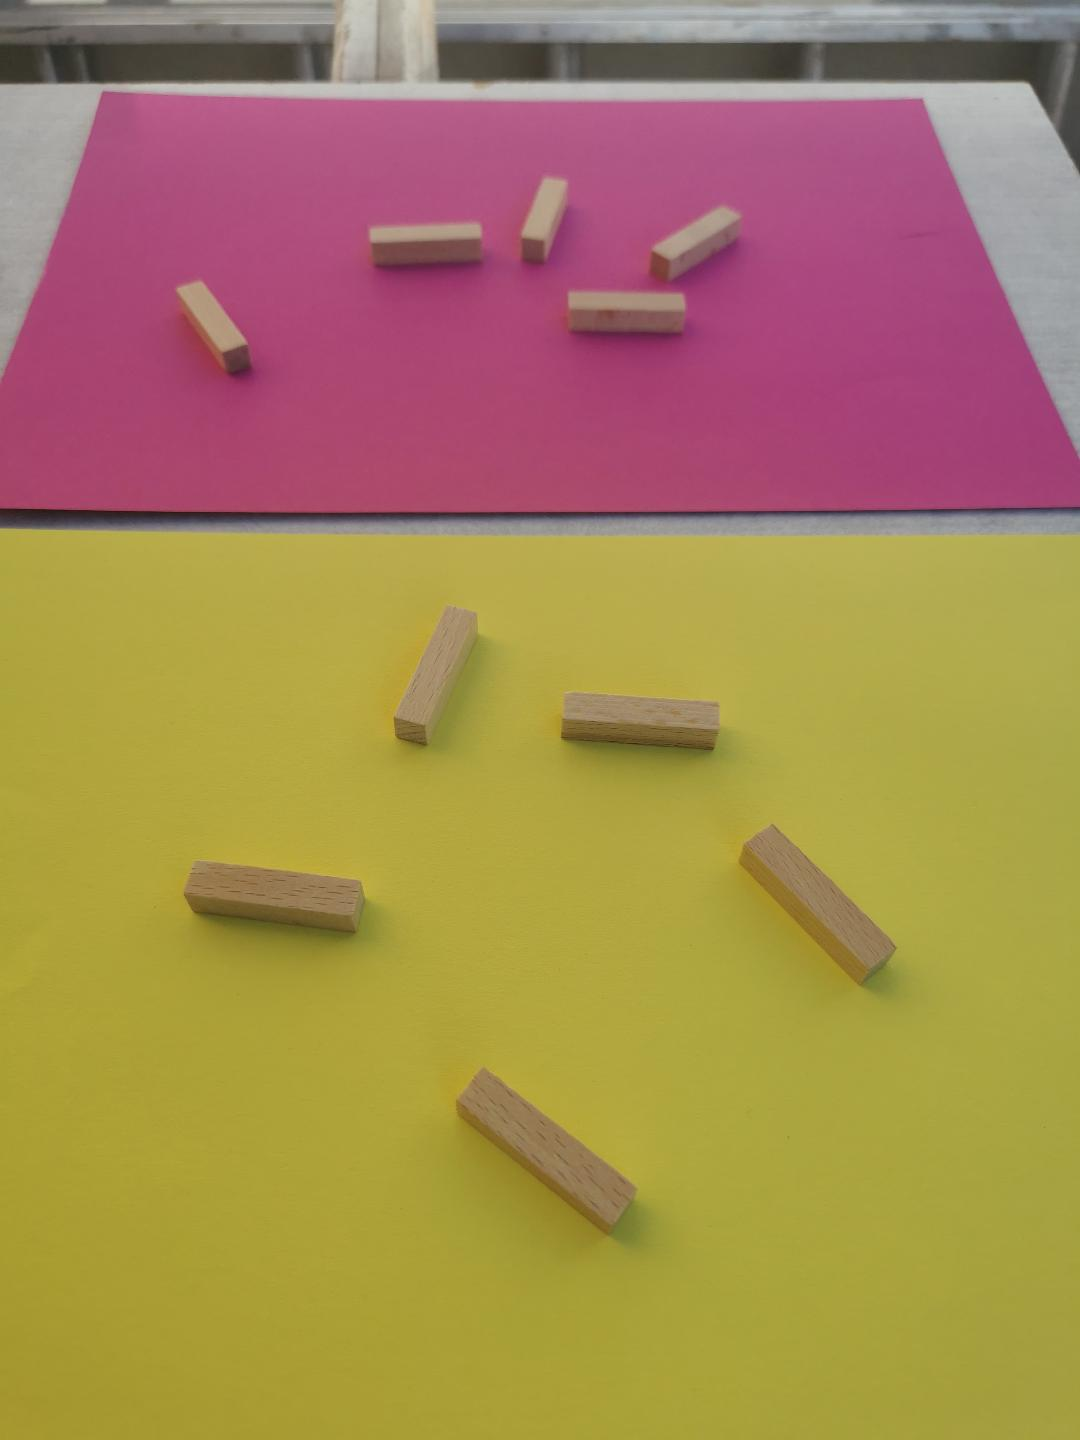jenga: (456, 1069, 635, 1231), (740, 824, 894, 984), (183, 861, 365, 931), (394, 604, 478, 745), (563, 692, 720, 748), (177, 281, 251, 374), (650, 205, 740, 281), (568, 289, 686, 334), (369, 222, 483, 268), (521, 177, 568, 262)
